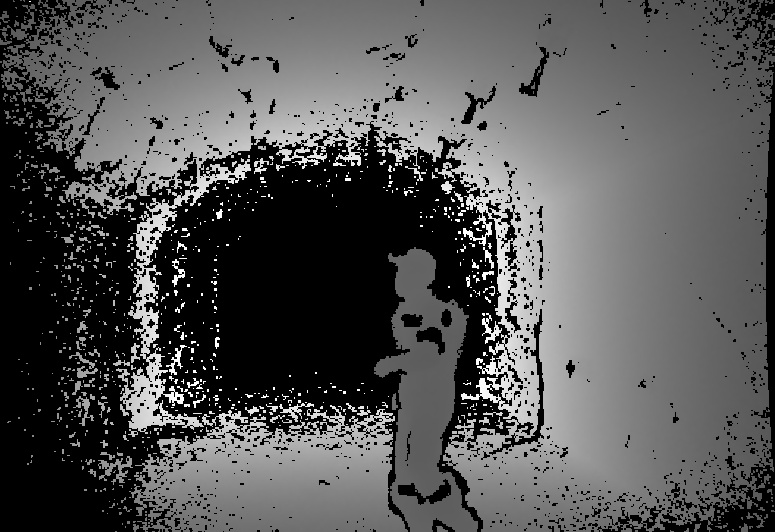person: (374, 247, 479, 532)
